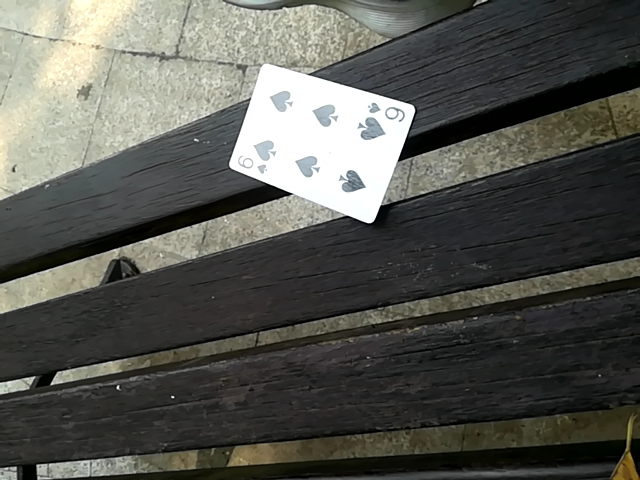ht 6: (223, 66, 405, 232)
